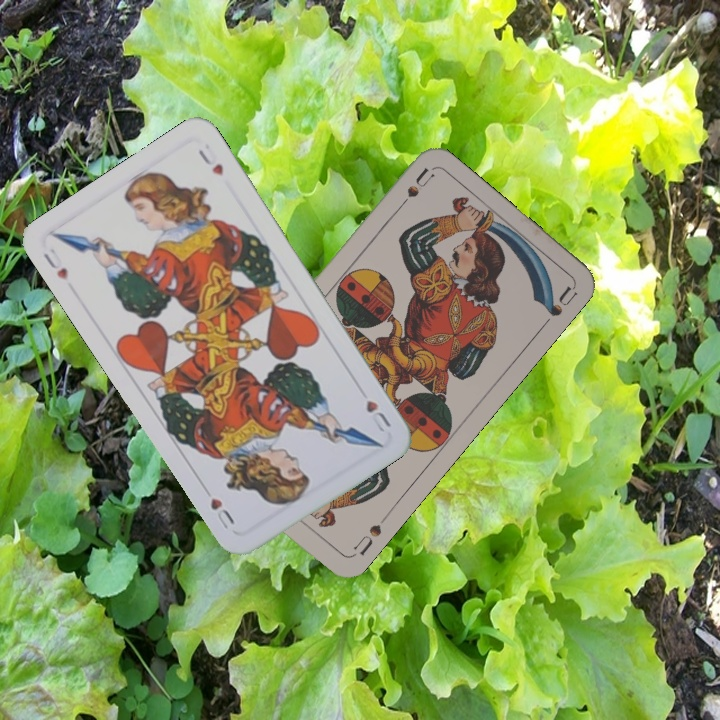HU: (38, 244, 71, 282), (362, 396, 394, 435)
SU: (390, 164, 437, 216), (349, 510, 391, 559)
